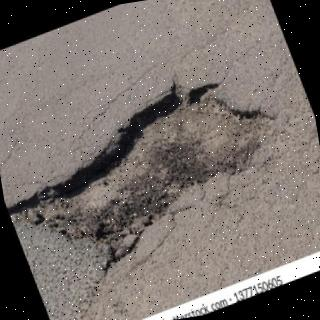pothole: (10, 77, 276, 267)
